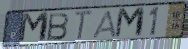1: (147, 6, 160, 37)
A: (92, 9, 118, 39)
B: (46, 11, 71, 42)
M: (17, 11, 51, 45), (113, 6, 147, 40)
T: (73, 9, 94, 42)
